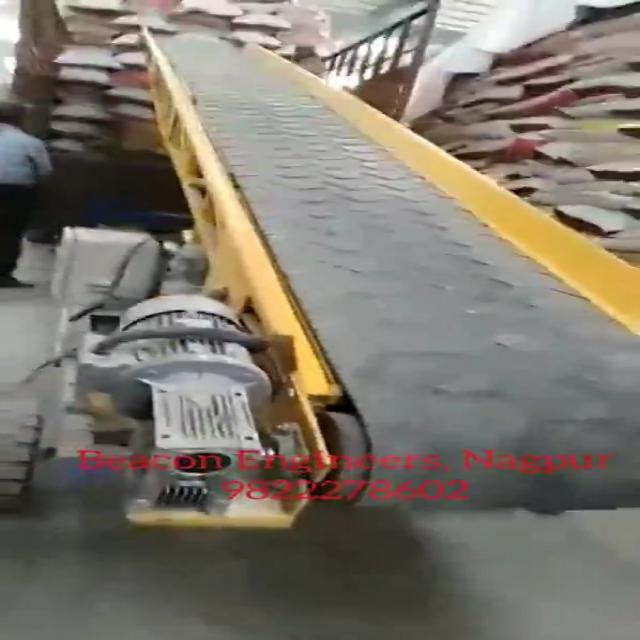Convoyeur: (143, 25, 640, 528)
